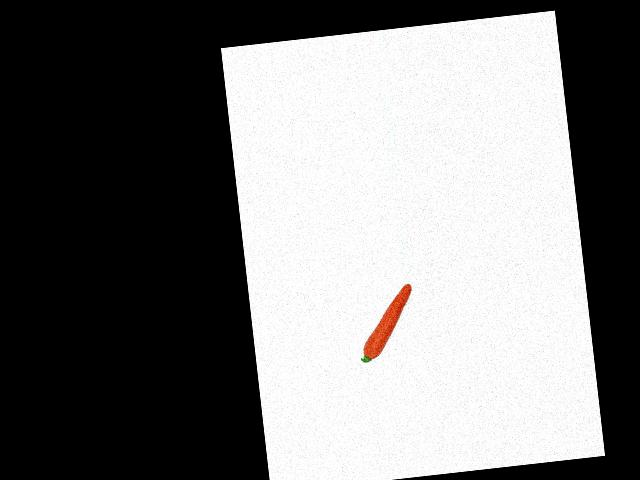carrot: (353, 282, 422, 360)
